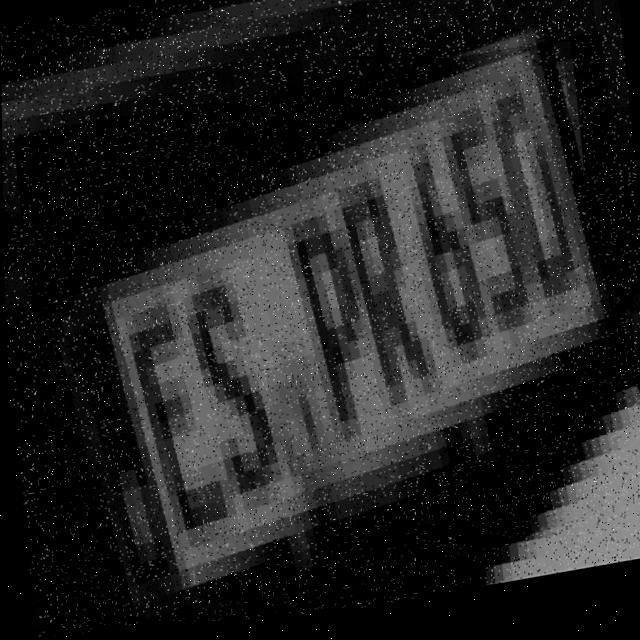LicensePlate: (11, 39, 640, 639)
